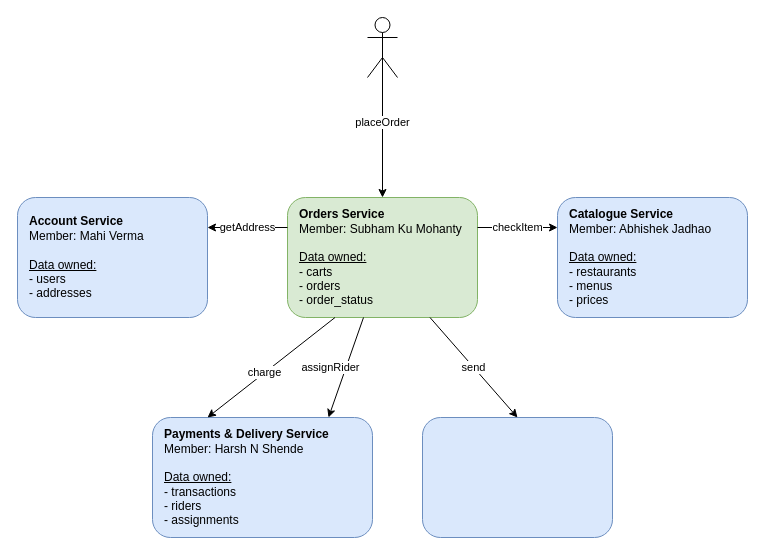
Some shapes in this 765 by 555 pixel diagram are drawn without their labels. The centre of each missing label's shape, as x and y in pixels:
Notification Service Member: Rishabh Mishra Data owned: - message_log: (x=517, y=477)
Student: (x=382, y=47)
